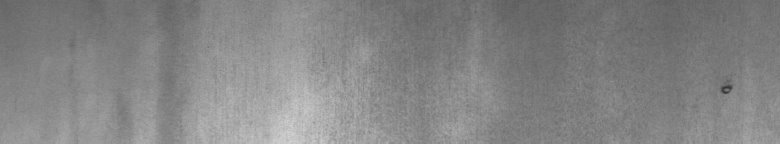fi: (718, 80, 736, 99)
